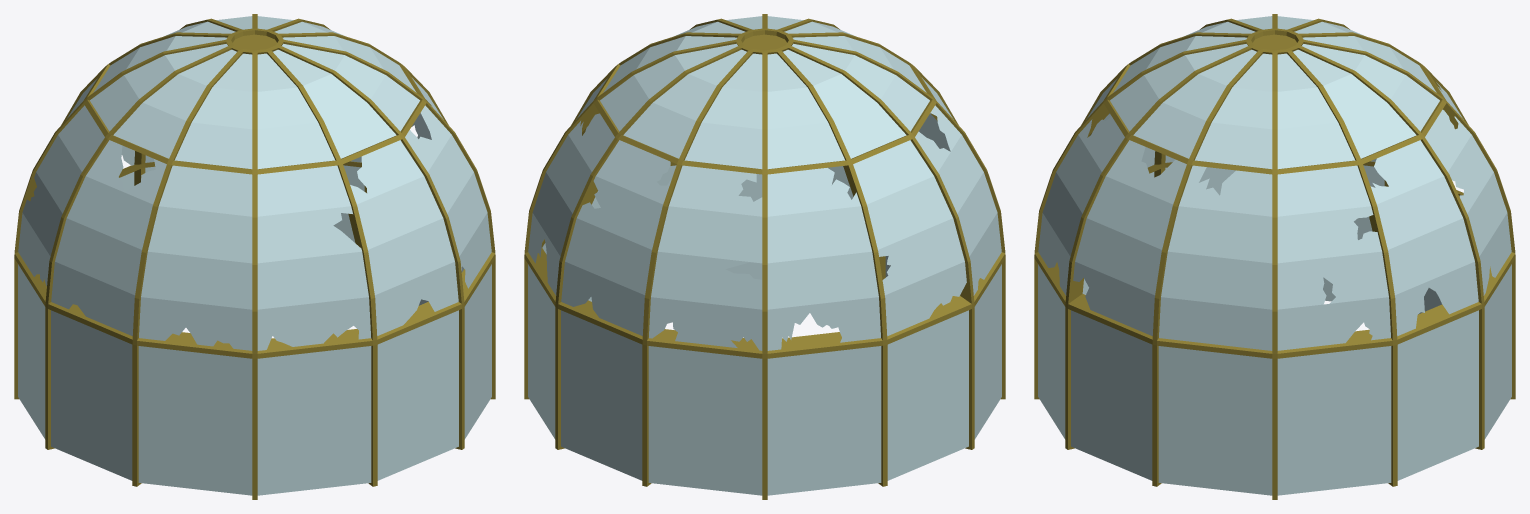
Rendered from Dome.fbx.
3 views of the same model, side by side, from view 1: azimuth 30°, elevation 25°; view 2: azimuth 150°, elevation 25°; view 3: azimuth 270°, elevation 25° (orthographic).
Parts seen in each view (by area): view 1: Sphere; view 2: Sphere; view 3: Sphere.
Boxes of the visible parts, <box> form: Sphere: <box>14,14,495,499</box>; Sphere: <box>524,14,1005,499</box>; Sphere: <box>1034,14,1515,499</box>.
Bounding box in the file's own units: 2238 × 1839 × 2238.
